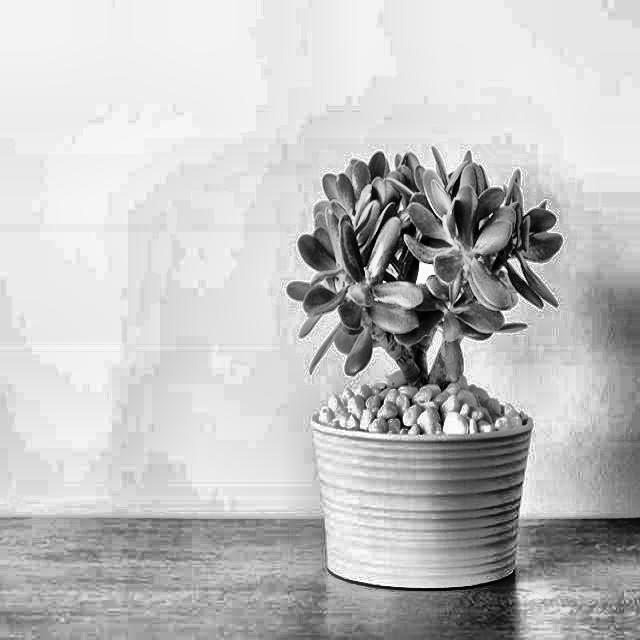plants: (280, 136, 572, 596)
